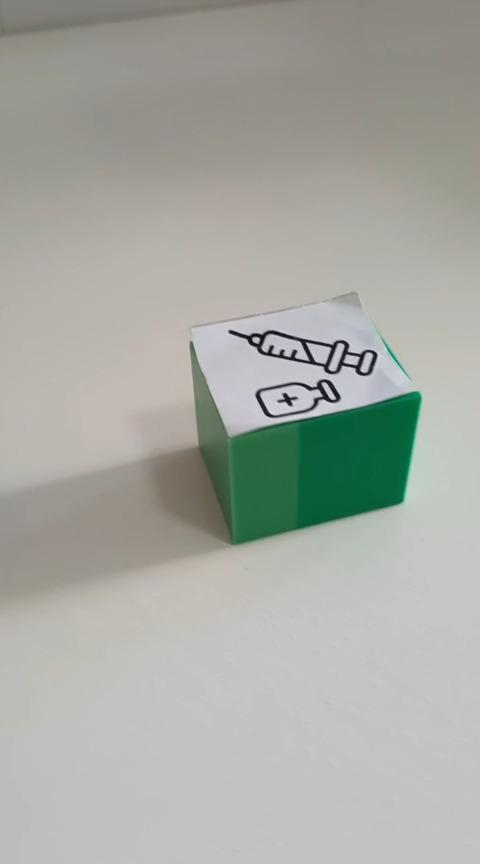antiseptic cream: (187, 289, 422, 545)
